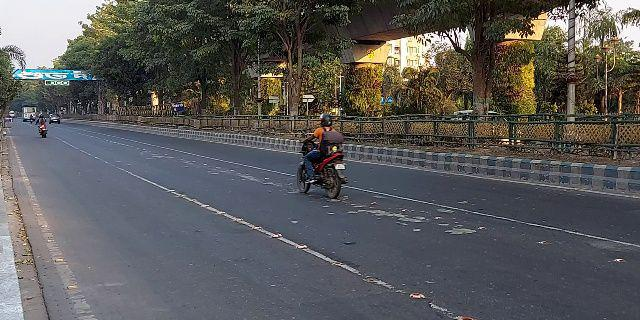Motorbike: (294, 108, 349, 200), (35, 111, 51, 140)
